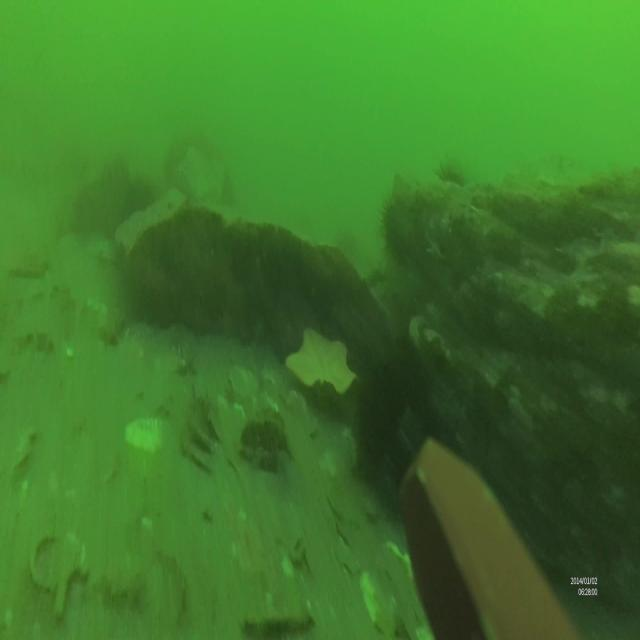echinus: (356, 340, 428, 475), (380, 196, 408, 264), (435, 161, 469, 190)
